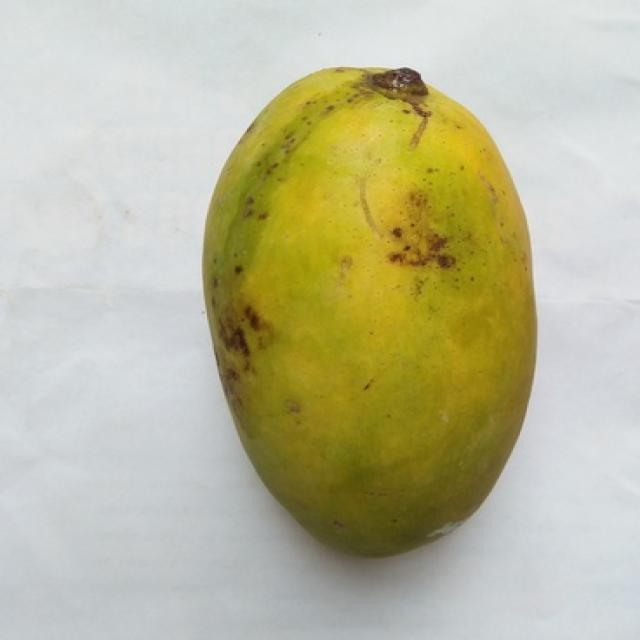Mango: (203, 68, 534, 554)
